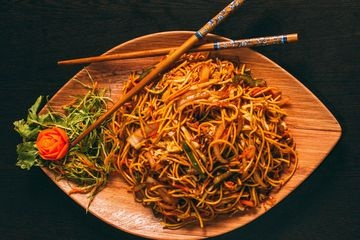mie_aceh: (109, 58, 298, 227)
